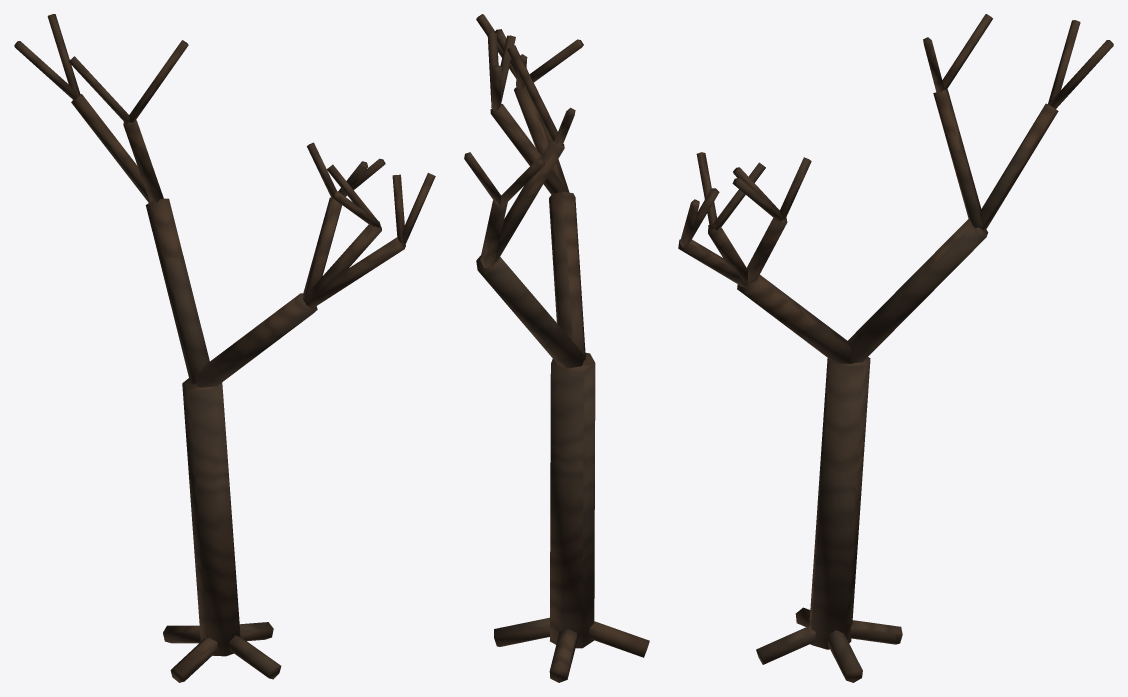
The model's file is NT01_dead_tree_v4.glb.
The picture shows the model from 3 angles, left to right: view 1: azimuth 30°, elevation 25°; view 2: azimuth 150°, elevation 25°; view 3: azimuth 270°, elevation 25°; orthographic projection. The views are drawn at different scales.
Parts seen in each view (by area): view 1: NT01_dead_tree_v4; view 2: NT01_dead_tree_v4; view 3: NT01_dead_tree_v4.
Part boxes in pixels (x1,y1,x2,y2): NT01_dead_tree_v4: (14,14,435,682); NT01_dead_tree_v4: (464,14,649,682); NT01_dead_tree_v4: (678,14,1113,682).
Bounding box in the file's own units: 2.59 × 6 × 3.81.
Materials: 1 (1 with a texture image).
